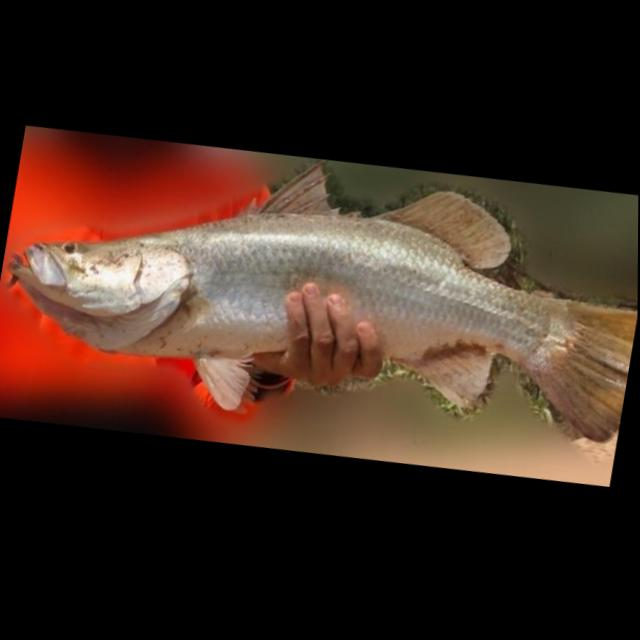Seabass: (0, 97, 639, 483)
